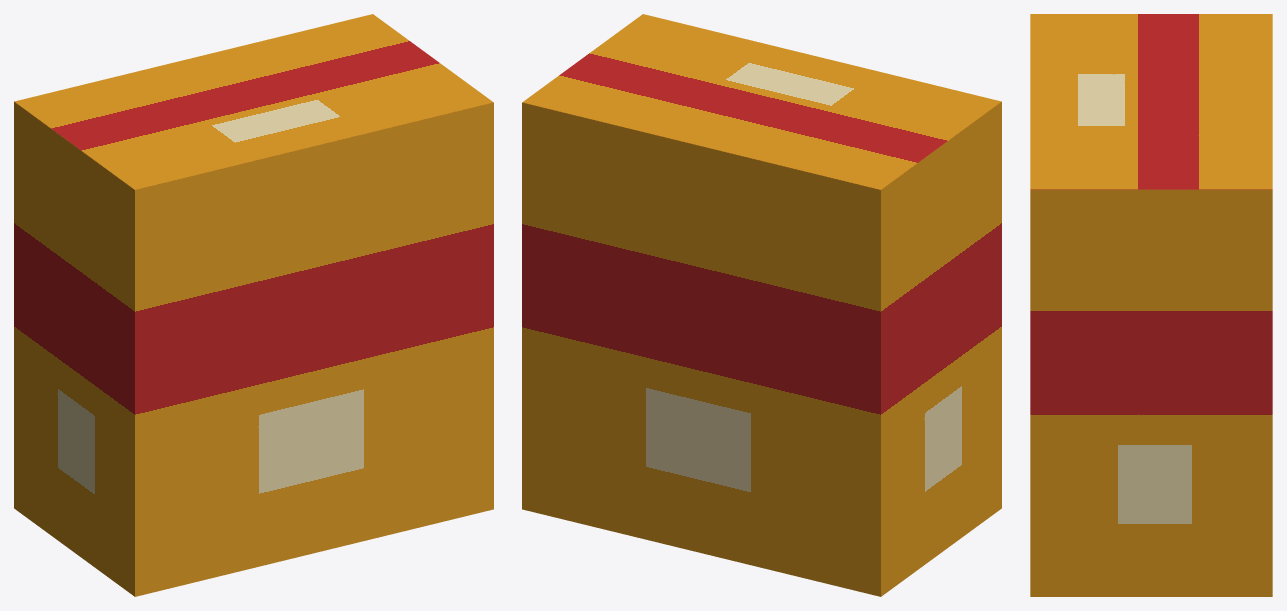
Rendered from box_snack.glb.
3 renders of one model, left to right at view 1: azimuth 30°, elevation 25°; view 2: azimuth 150°, elevation 25°; view 3: azimuth 270°, elevation 25°, orthographic.
Visible parts, largest first — view 1: block_box2, block_box5, block_box0; view 2: block_box3, block_box5, block_box0; view 3: block_box4, block_box0.
Part boxes in pixels (x1,y1,x2,y2): block_box2: [135, 102, 493, 596]; block_box5: [14, 102, 134, 596]; block_box0: [14, 14, 493, 189]; block_box3: [522, 102, 880, 596]; block_box5: [881, 102, 1001, 596]; block_box0: [522, 14, 1001, 189]; block_box4: [1030, 189, 1272, 596]; block_box0: [1030, 14, 1272, 189].
Size of the model in its own units: 0.1201 by 0.1301 by 0.0701.
Materials: 1 (1 with a texture image).
